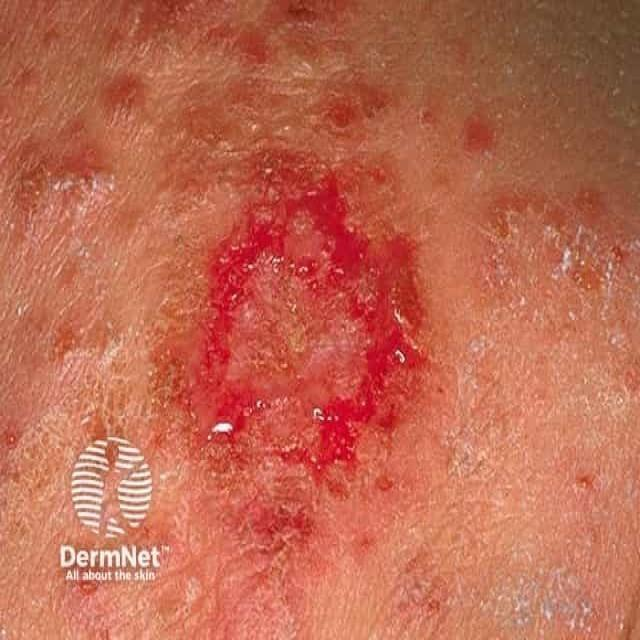Eczema: (0, 7, 607, 620)
